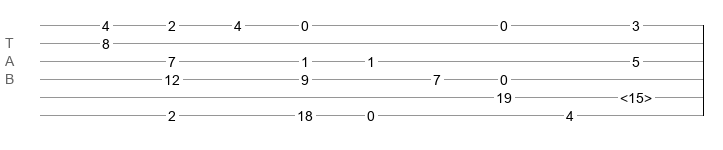0: (301, 18, 309, 28), (367, 108, 375, 118), (500, 18, 508, 28), (500, 72, 508, 82)
1: (301, 54, 309, 64), (367, 54, 375, 64)
12: (164, 72, 180, 82)
18: (297, 108, 313, 118)
19: (496, 90, 512, 100)
2: (168, 18, 176, 28), (168, 108, 176, 118)
3: (632, 18, 640, 28)
4: (102, 18, 110, 28), (234, 18, 242, 28), (566, 108, 574, 118)
5: (632, 54, 640, 64)
7: (168, 54, 176, 64), (433, 72, 441, 82)
8: (102, 36, 110, 46)
9: (301, 72, 309, 82)
harmonic: (620, 90, 652, 100)
